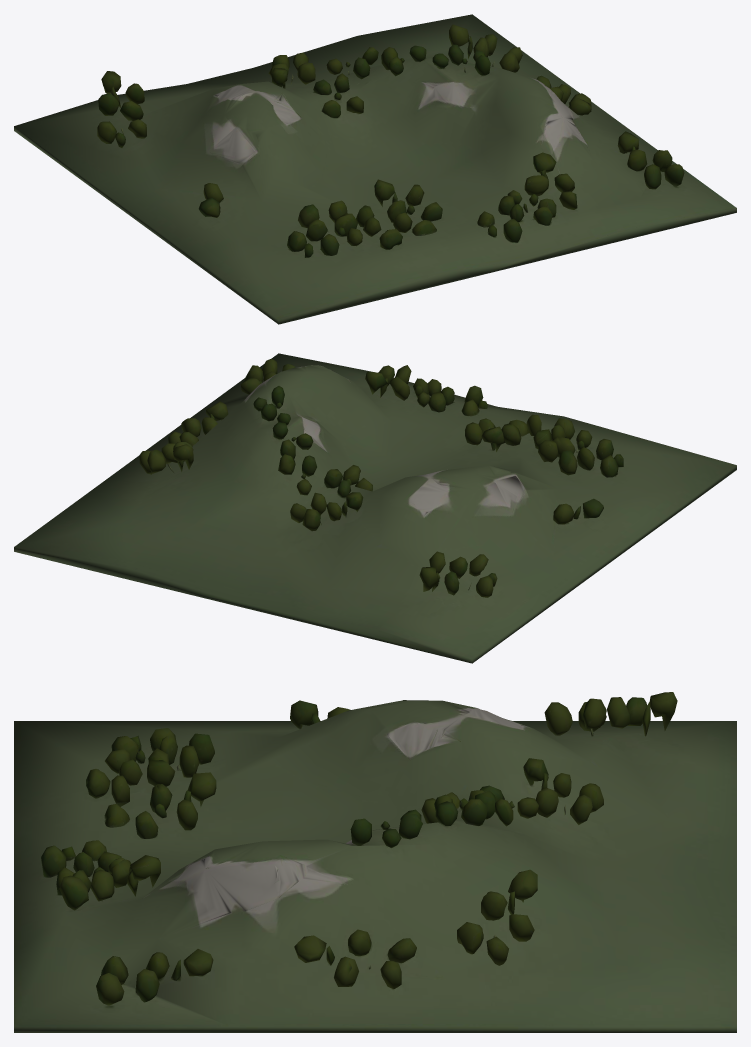
File: original_glb.glb
The picture shows the model from 3 angles, top to bottom: view 1: azimuth 30°, elevation 25°; view 2: azimuth 150°, elevation 25°; view 3: azimuth 270°, elevation 25°; orthographic projection. The views are drawn at different scales.
Parts seen in each view (by area): view 1: Wooded Hill Ridge; view 2: Wooded Hill Ridge; view 3: Wooded Hill Ridge.
Part boxes in pixels (box(x1,y1,x2,y2)): Wooded Hill Ridge: box(14, 14, 736, 324); Wooded Hill Ridge: box(14, 353, 736, 663); Wooded Hill Ridge: box(14, 692, 736, 1032).
Size of the model in its own units: 0.998 by 0.1973 by 0.998.
1 material, 1 textured.
